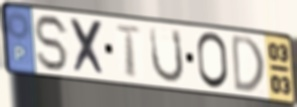D: (230, 33, 266, 94)
O: (195, 30, 231, 92)
S: (33, 13, 71, 74)
T: (114, 23, 145, 80)
U: (148, 25, 186, 85)
X: (68, 16, 108, 79)
